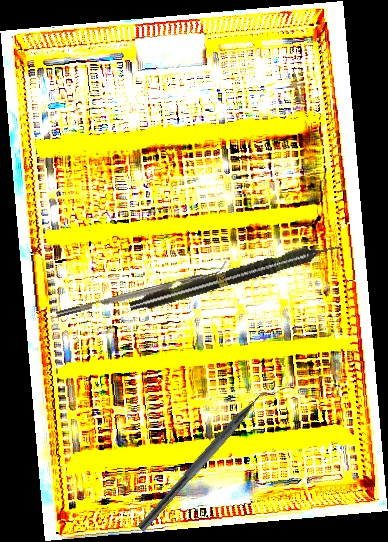Chopper: (137, 379, 282, 541), (53, 260, 231, 318)
Handpiece: (127, 237, 344, 316)
